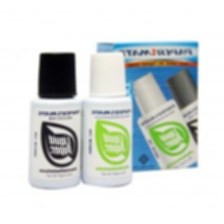book: (90, 38, 202, 175)
correction_fluid: (25, 49, 85, 190), (80, 50, 134, 188)
